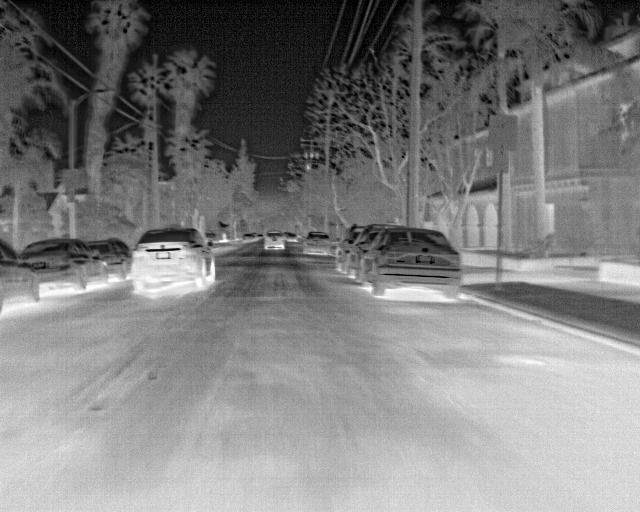bicycle: (356, 226, 462, 297), (131, 227, 217, 289), (19, 238, 109, 289), (0, 238, 41, 308), (341, 223, 387, 281), (90, 237, 132, 283), (334, 223, 362, 273), (301, 232, 333, 255), (261, 230, 285, 250), (282, 232, 299, 245), (239, 233, 256, 245)
